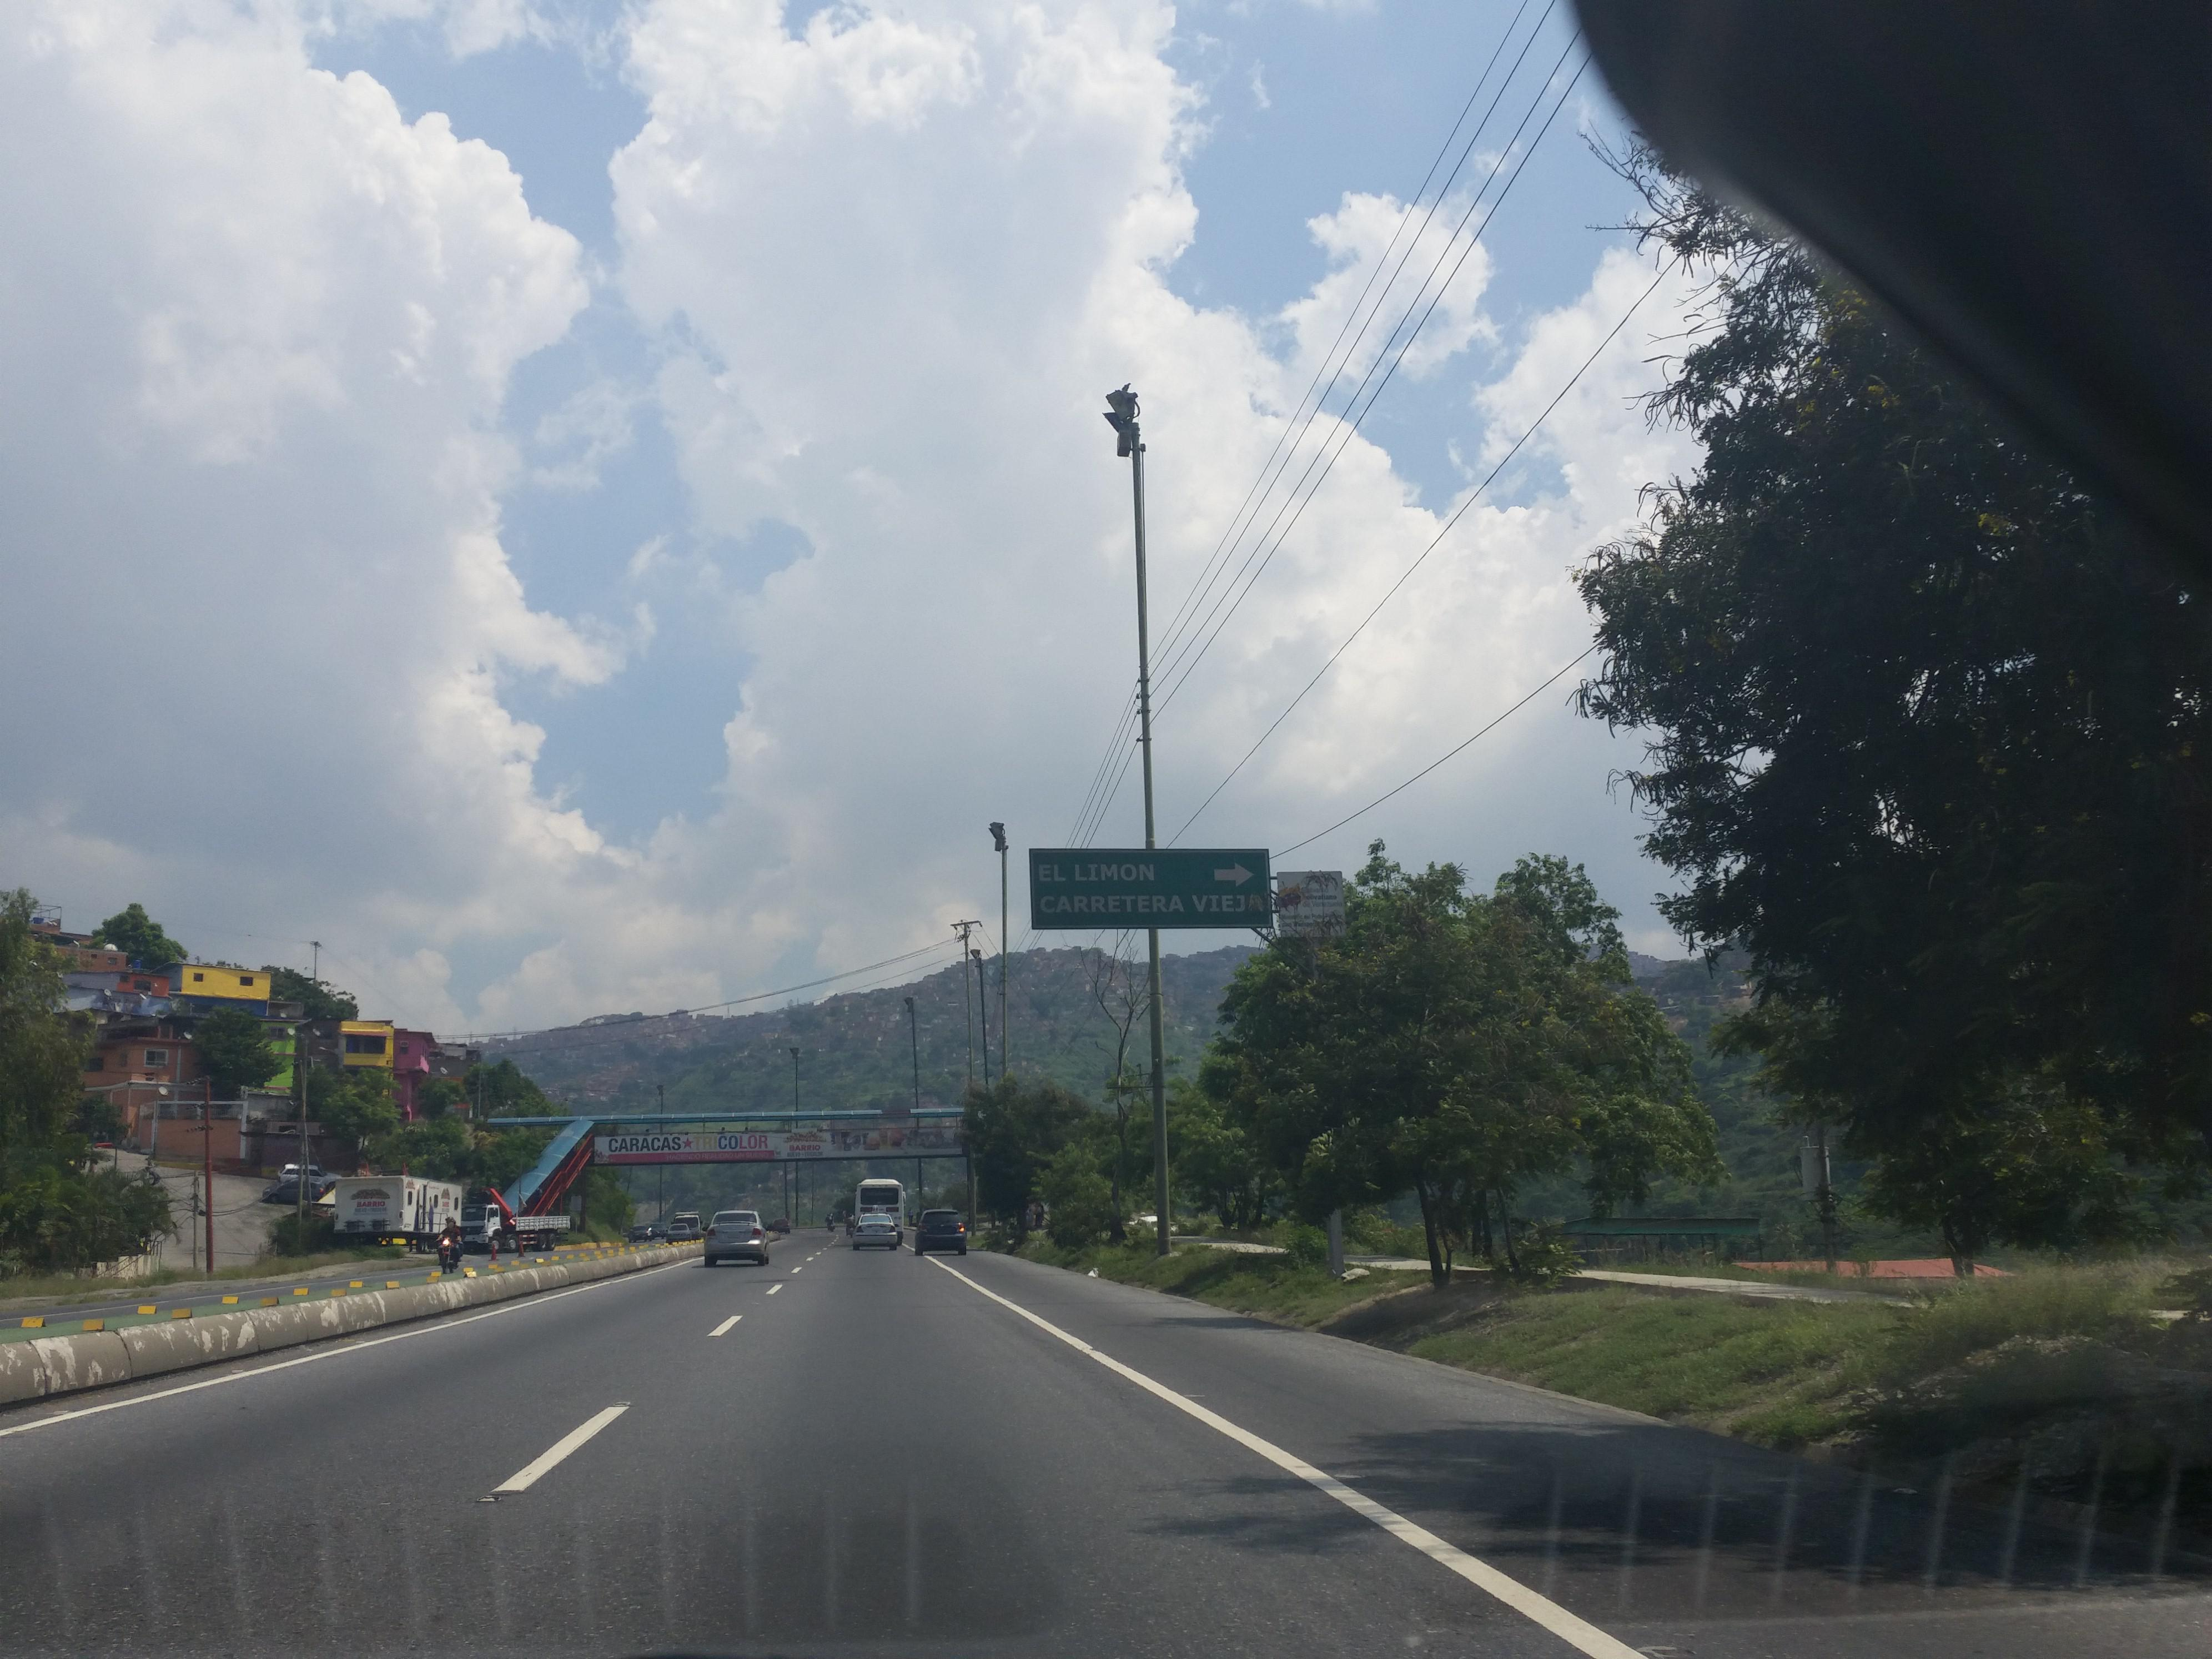vinyl banner: (575, 1100, 998, 1168)
